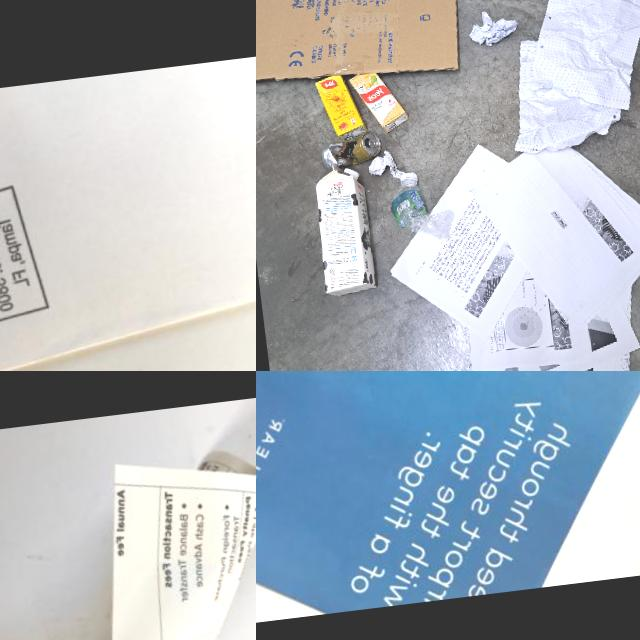aba de lata: (368, 138, 381, 148)
caixinha: (309, 164, 376, 296), (348, 68, 408, 136), (314, 73, 364, 140)
garrafa plástica: (386, 166, 455, 244)
lata: (319, 130, 381, 170)
papel: (256, 371, 640, 632), (0, 42, 256, 371), (375, 122, 640, 371), (0, 440, 256, 640), (494, 0, 640, 155), (466, 6, 520, 48), (366, 149, 404, 181)
papelão: (256, 0, 478, 95)
tampa plástica: (400, 169, 418, 183), (342, 167, 360, 180)
